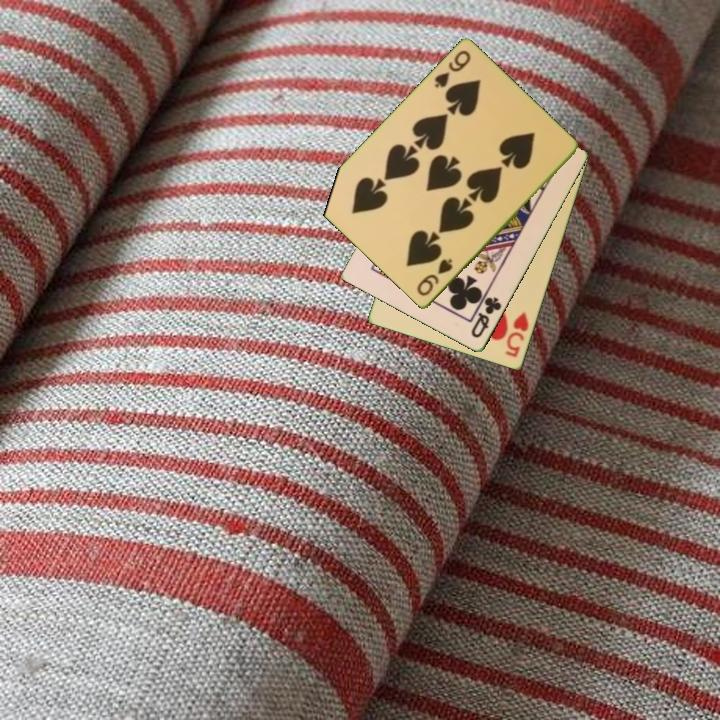5h: (502, 308, 532, 361)
9s: (431, 47, 474, 92), (413, 255, 455, 299)
Qc: (468, 294, 505, 341)
